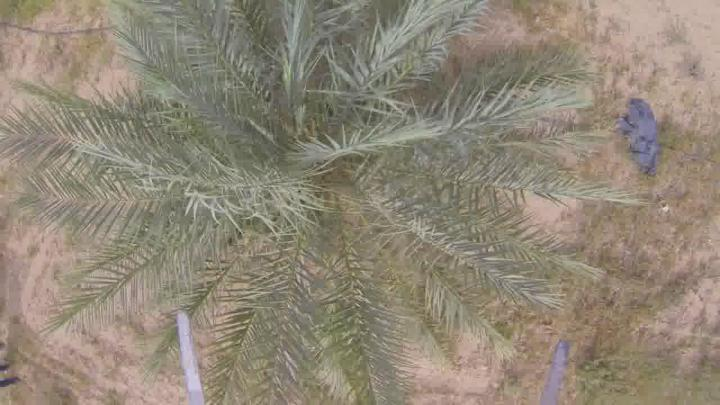Date-Palm-Crown: (165, 12, 469, 302)
